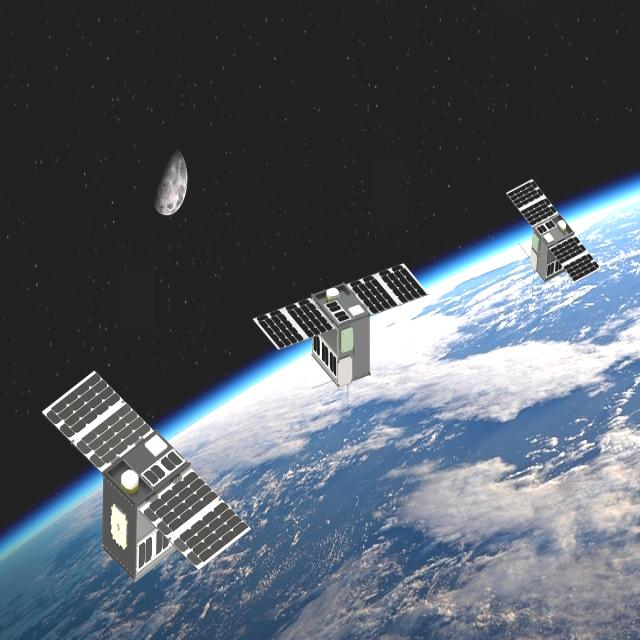large_debris: (146, 134, 196, 236)
satellite: (33, 370, 264, 606), (238, 263, 435, 397), (506, 165, 615, 318)
